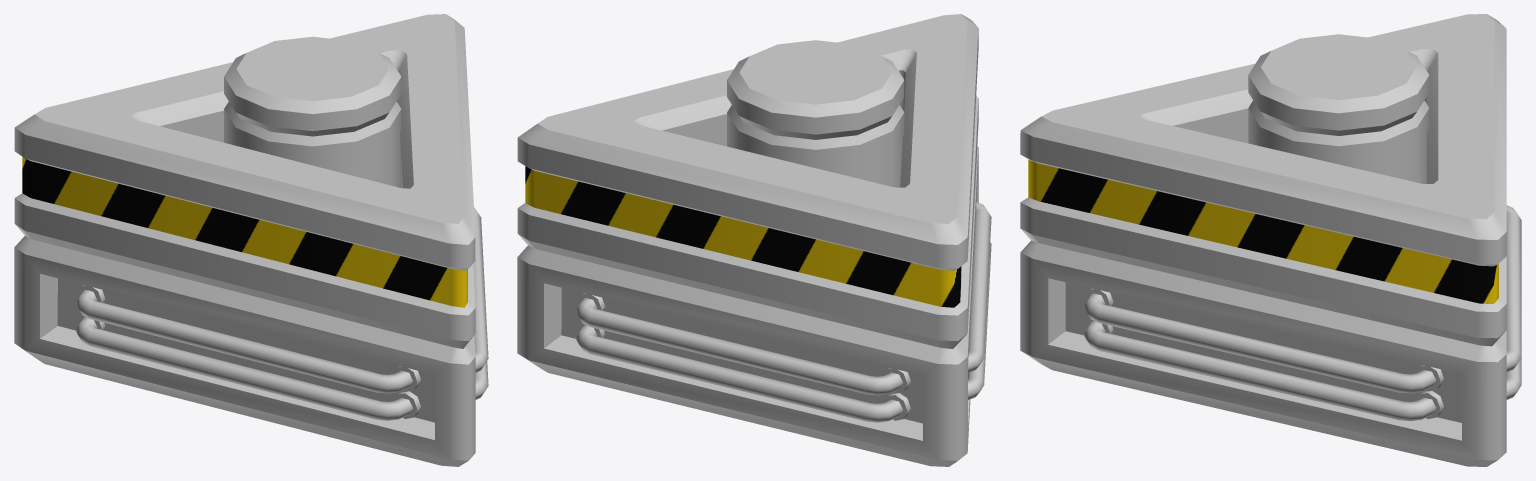
Rendered from barrier_001.fbx.
3 views of the same model, side by side, from view 1: azimuth 30°, elevation 25°; view 2: azimuth 150°, elevation 25°; view 3: azimuth 270°, elevation 25° (orthographic). The views are drawn at different scales.
Visible parts, largest first — view 1: barrier_001; view 2: barrier_001; view 3: barrier_001.
Part boxes in pixels (x1,y1,x2,y2): barrier_001: (14, 14, 488, 466); barrier_001: (517, 14, 991, 466); barrier_001: (1020, 14, 1521, 466).
Bounding box in the file's own units: 380 × 366 × 240.
